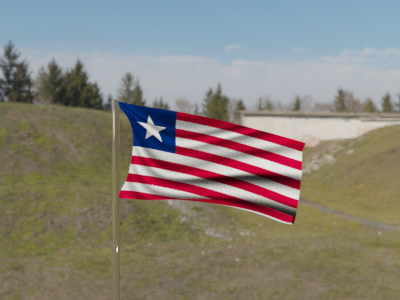Liberia flag: (117, 98, 303, 223)
